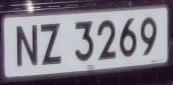2: (94, 16, 118, 64)
3: (71, 17, 96, 65)
6: (116, 14, 139, 60)
9: (137, 12, 159, 59)
N: (15, 19, 40, 73)
Z: (40, 18, 65, 70)
